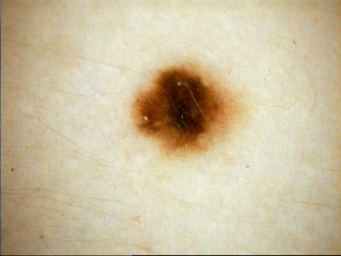nevus: (136, 69, 215, 147)
